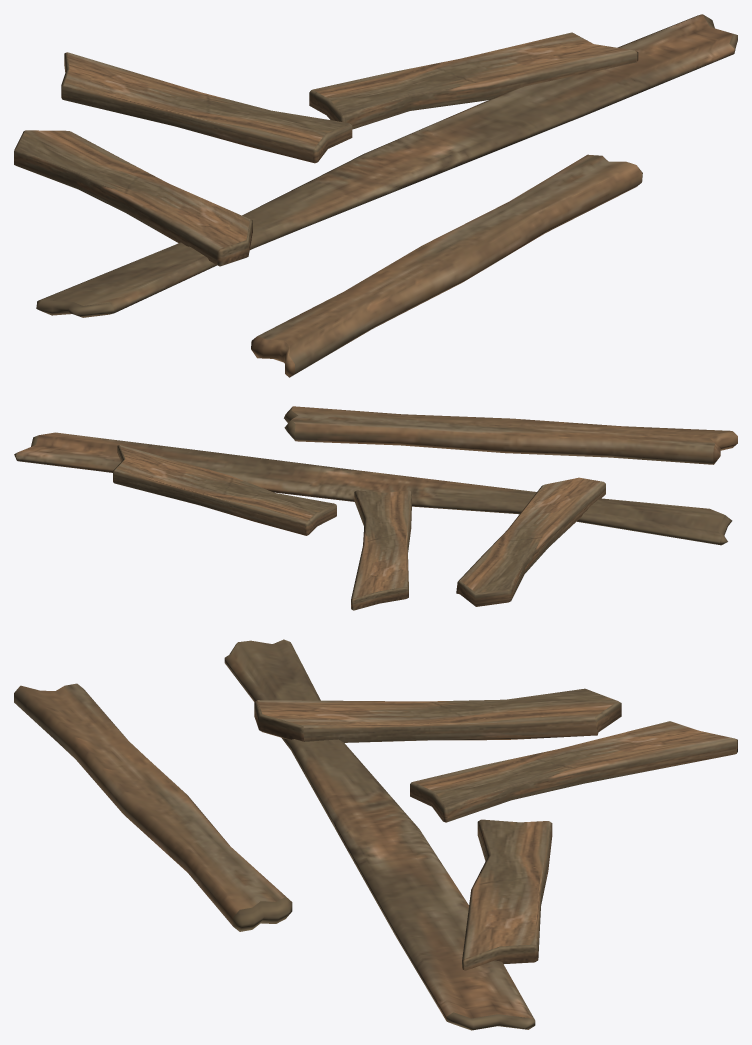
File: SM_Wood_Debris_02.fbx
The picture shows the model from 3 angles, top to bottom: view 1: azimuth 30°, elevation 25°; view 2: azimuth 150°, elevation 25°; view 3: azimuth 270°, elevation 25°; orthographic projection. The views are drawn at different scales.
Visible parts, largest first — view 1: SM_Wood_Debris_02_LOD0; view 2: SM_Wood_Debris_02_LOD0; view 3: SM_Wood_Debris_02_LOD0.
Part boxes in pixels (x1,y1,x2,y2): SM_Wood_Debris_02_LOD0: (14,14,737,377); SM_Wood_Debris_02_LOD0: (14,406,737,610); SM_Wood_Debris_02_LOD0: (14,639,737,1030).
Size of the model in its own units: 272 by 212 by 11.4.
2 materials, 2 textured.
